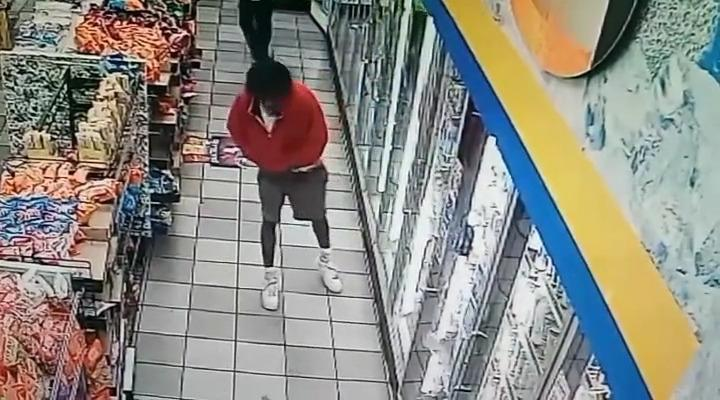shoplifting: (225, 68, 357, 314)
